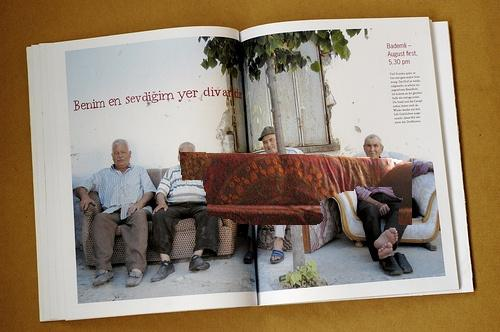tampered: (180, 152, 412, 225)
